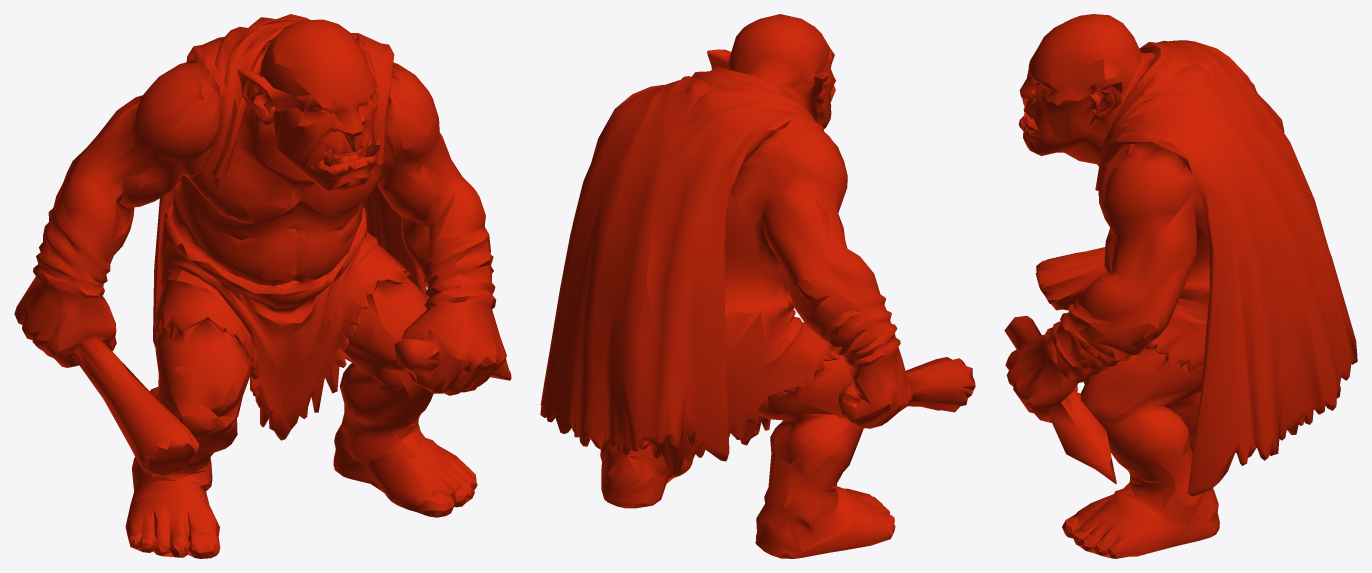
Rendered from orc.obj.
3 renders of one model, left to right at view 1: azimuth 30°, elevation 25°; view 2: azimuth 150°, elevation 25°; view 3: azimuth 270°, elevation 25°, orthographic. The views are drawn at different scales.
Parts seen in each view (by area): view 1: orc; view 2: orc; view 3: orc.
Boxes of the visible parts, bbox=[...] form: orc: bbox=[14, 14, 511, 558]; orc: bbox=[540, 14, 975, 558]; orc: bbox=[1004, 14, 1357, 558].
Bounding box in the file's own units: 3.81 × 4.4 × 3.04.
